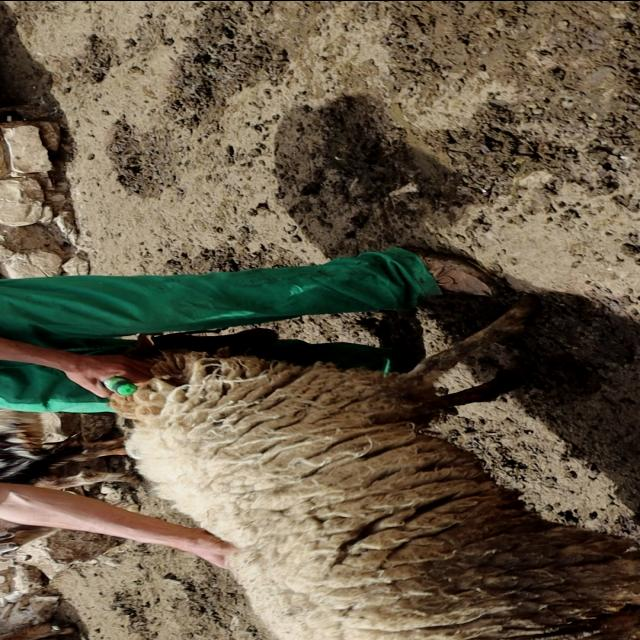Score_2: (110, 294, 639, 640)
